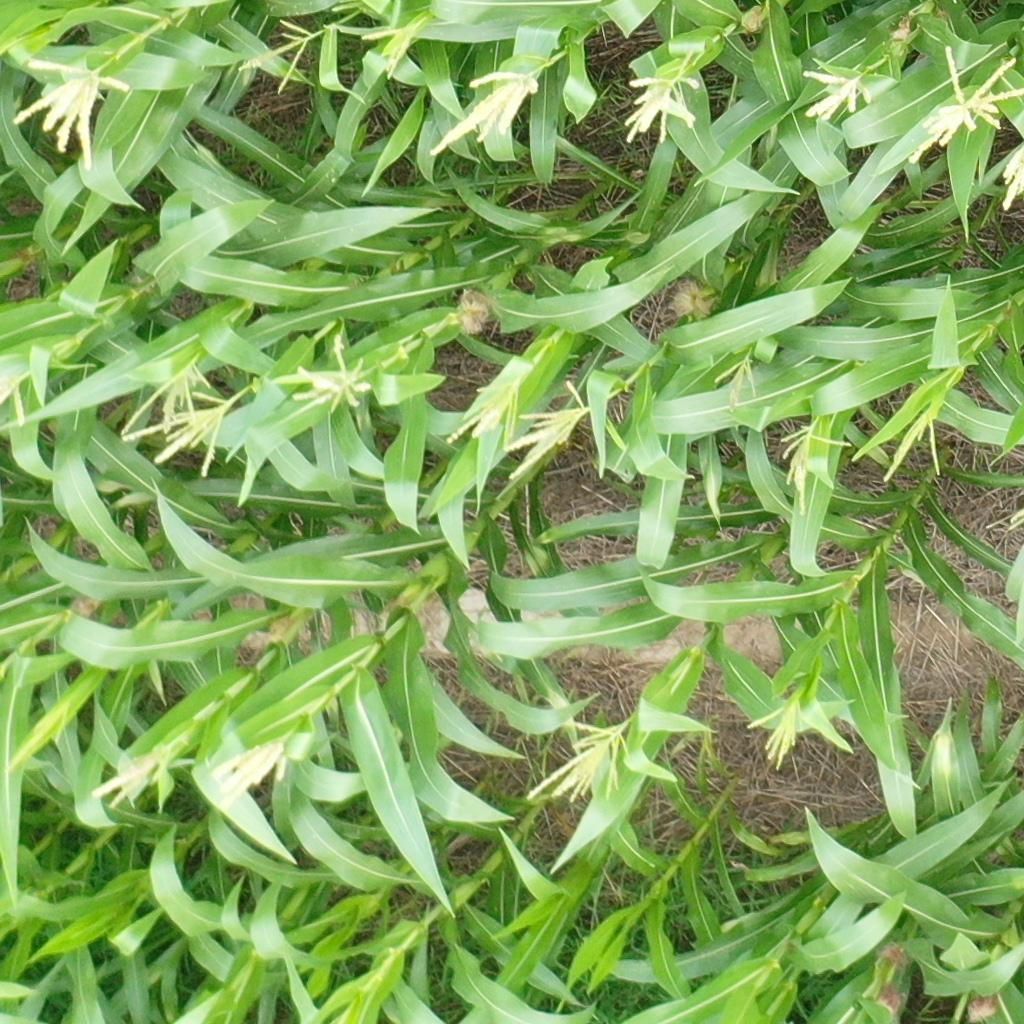Tassel: (9, 56, 132, 171), (910, 43, 1024, 164), (428, 72, 544, 163), (122, 385, 238, 471), (522, 719, 632, 808), (508, 378, 591, 484), (117, 355, 214, 433), (776, 420, 853, 518), (235, 17, 325, 96), (623, 57, 702, 146), (205, 739, 288, 817), (291, 342, 372, 417), (87, 740, 171, 808), (446, 379, 522, 448), (745, 696, 808, 771), (7, 697, 70, 771), (881, 413, 944, 481), (798, 65, 874, 119), (364, 27, 421, 76), (712, 355, 760, 412), (999, 144, 1024, 210), (1, 370, 31, 425)
